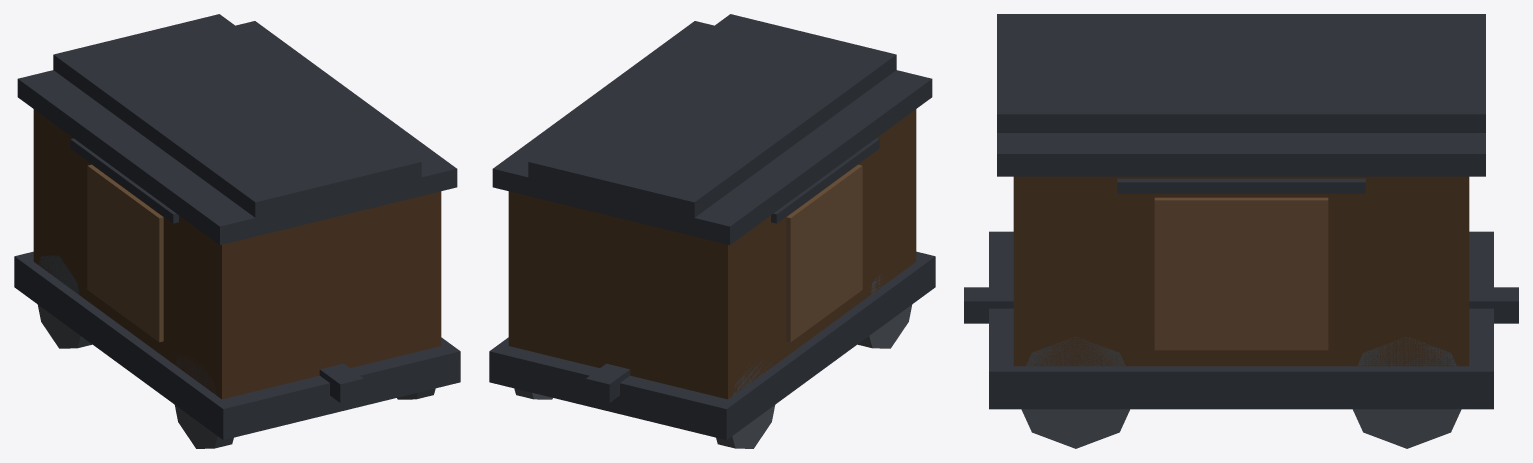
The model's file is wagon_empty.glb.
The picture shows the model from 3 angles, left to right: view 1: azimuth 30°, elevation 25°; view 2: azimuth 150°, elevation 25°; view 3: azimuth 270°, elevation 25°; orthographic projection. The views are drawn at different scales.
Visible parts, largest first — view 1: wagon_empty; view 2: wagon_empty; view 3: wagon_empty.
Boxes of the visible parts, x1,y1,x2,y2 form: wagon_empty: (14, 14, 460, 448); wagon_empty: (489, 14, 935, 448); wagon_empty: (964, 14, 1518, 448).
Bounding box in the file's own units: 0.8 × 0.85 × 1.34.
